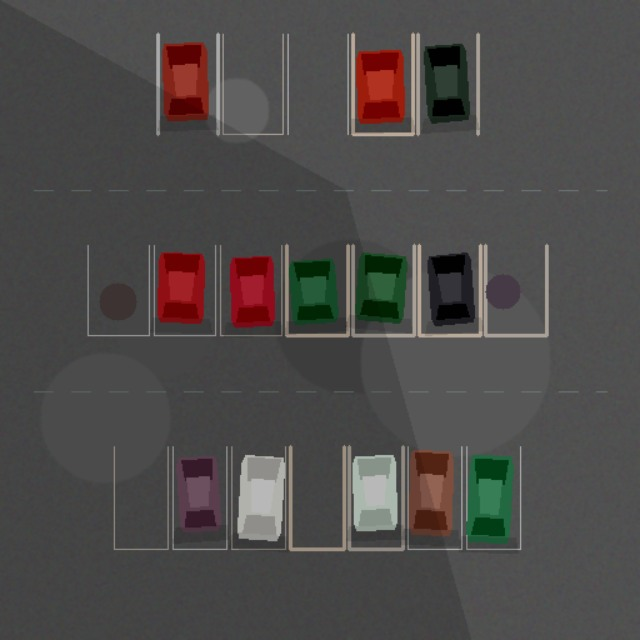space-empty: (222, 34, 282, 134), (288, 34, 348, 134), (87, 245, 149, 335), (114, 446, 168, 549), (290, 446, 344, 549), (485, 245, 546, 335)
space-occupied: (158, 34, 218, 134), (352, 34, 412, 134), (418, 34, 478, 134), (172, 446, 226, 549), (231, 446, 285, 549), (466, 446, 520, 549), (154, 245, 215, 335), (220, 245, 281, 335), (286, 245, 347, 335), (353, 245, 414, 335), (419, 245, 480, 335), (349, 446, 402, 549), (408, 446, 461, 549)
